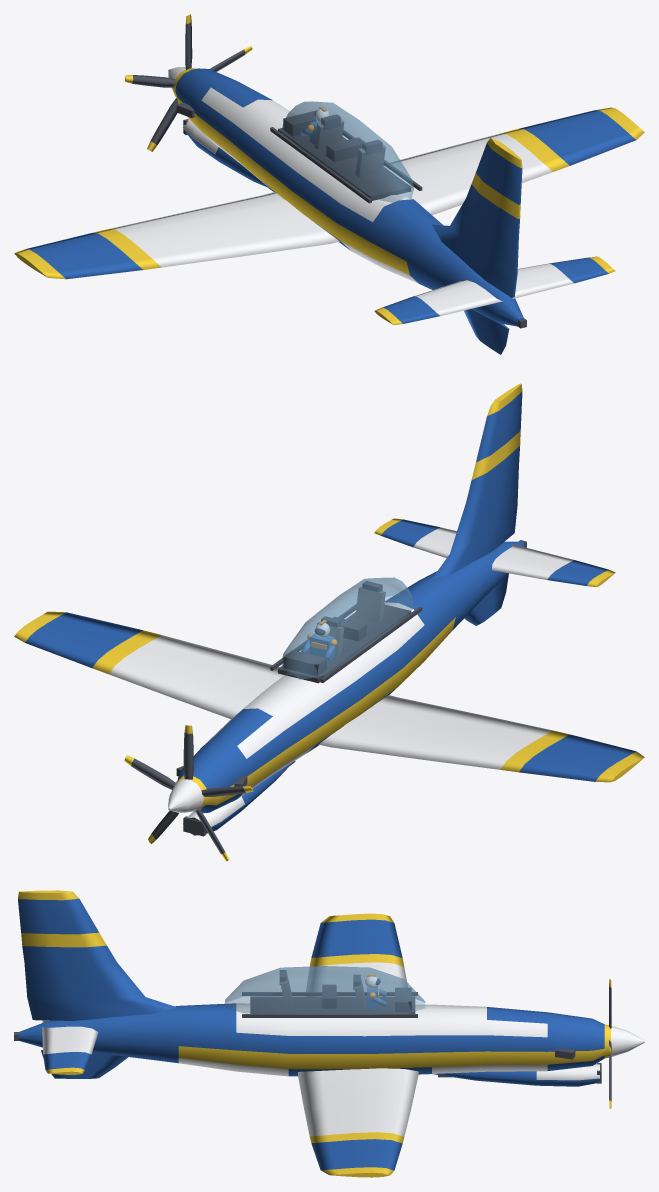
The picture shows the model from 3 angles, top to bottom: view 1: azimuth 30°, elevation 25°; view 2: azimuth 150°, elevation 25°; view 3: azimuth 270°, elevation 25°; orthographic projection. The views are drawn at different scales.
Parts seen in each view (by area): view 1: A29_Airframe, Prop; view 2: A29_Airframe, Prop; view 3: A29_Airframe.
Boxes of the visible parts, <box> form: A29_Airframe: <box>14,67,644,354</box>; Prop: <box>125,14,252,151</box>; A29_Airframe: <box>14,383,644,836</box>; Prop: <box>124,725,253,861</box>; A29_Airframe: <box>14,890,644,1177</box>.
Bounding box in the file's own units: 11.14 × 4.03 × 11.46.
